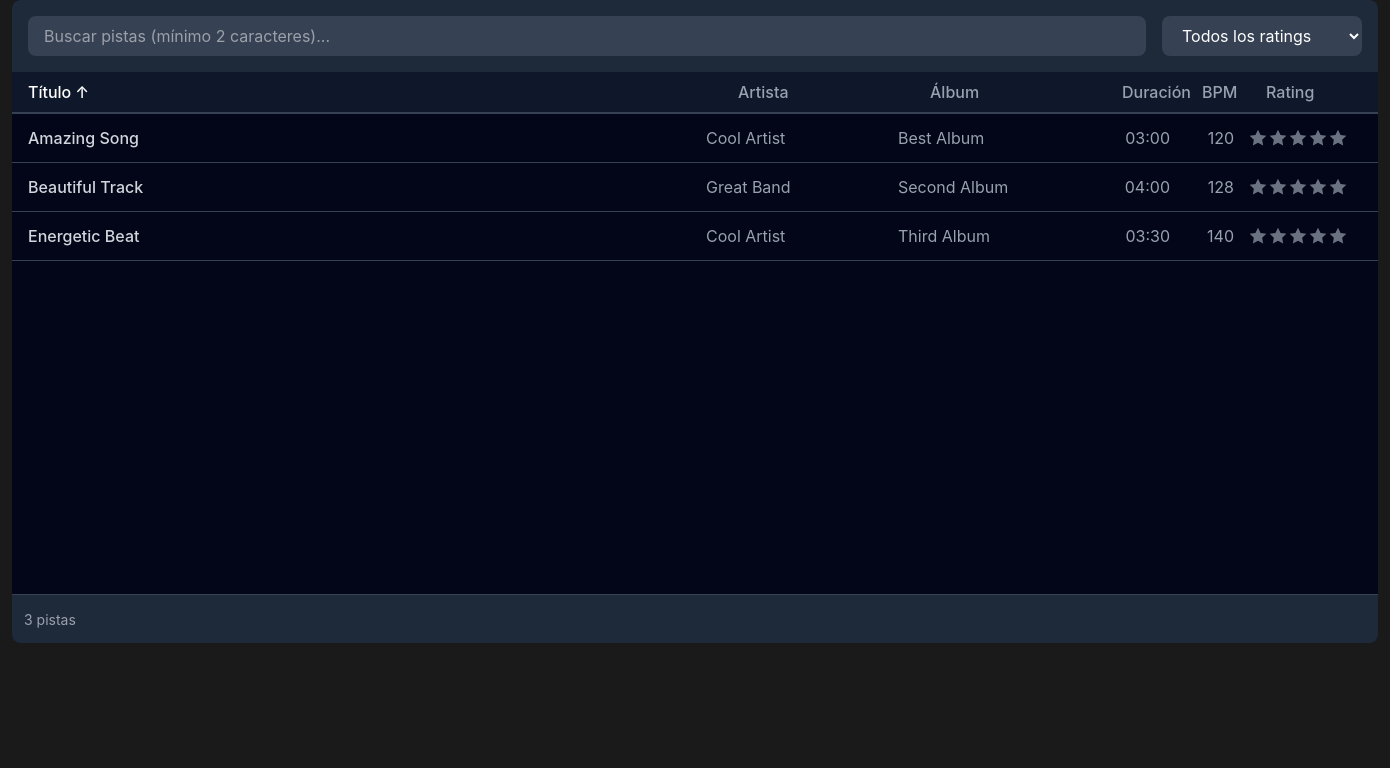
Test: TrackList › debería ordenar por duración
Click the button "Duración".
click(1146, 92)  # box [1106,72,1186,112]
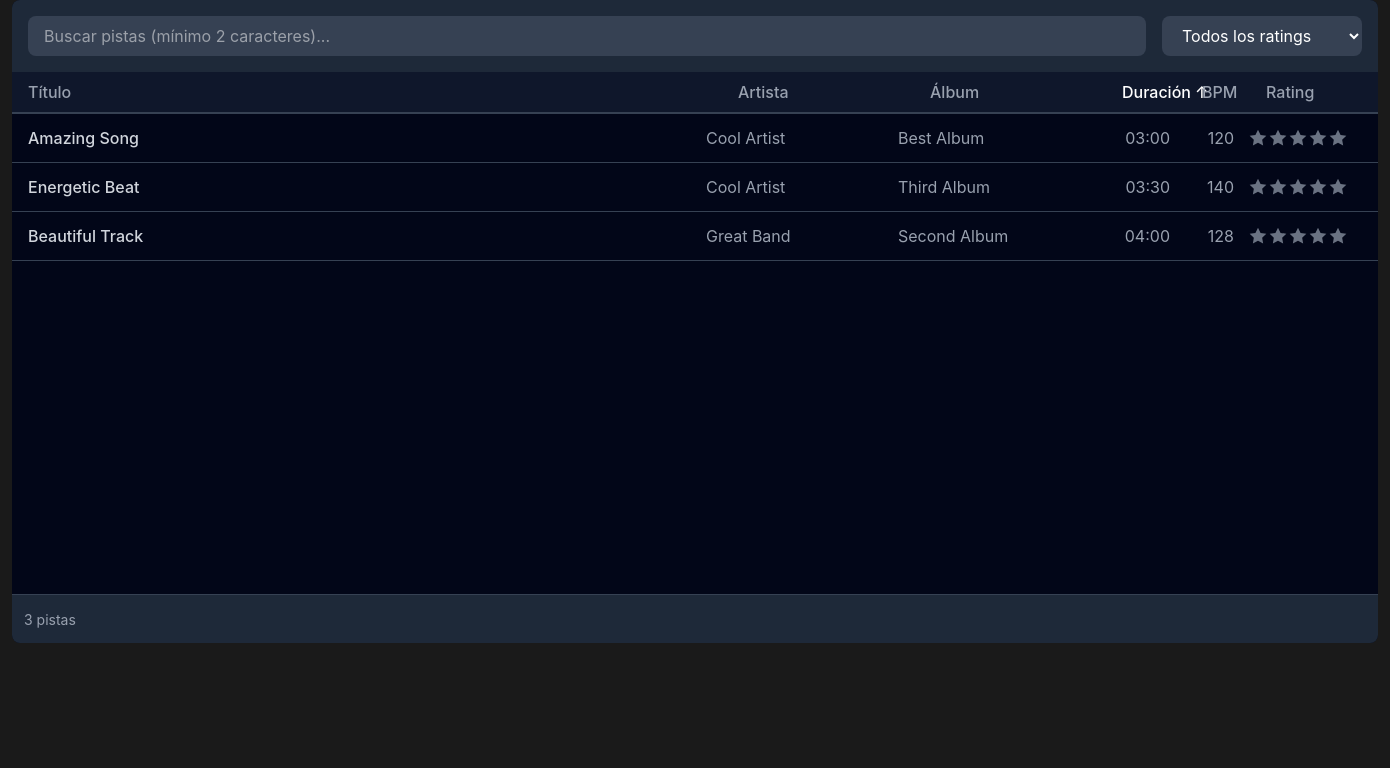
Expected: the row "Amazing Song Cool Artist Best Album 03:00 120" is shown, [12,114,1378,163]
Expected: the row "Energetic Beat Cool Artist Third Album 03:30 140" is shown, [12,163,1378,212]
Expected: the row "Beautiful Track Great Band Second Album 04:00 128" is shown, [12,212,1378,261]
